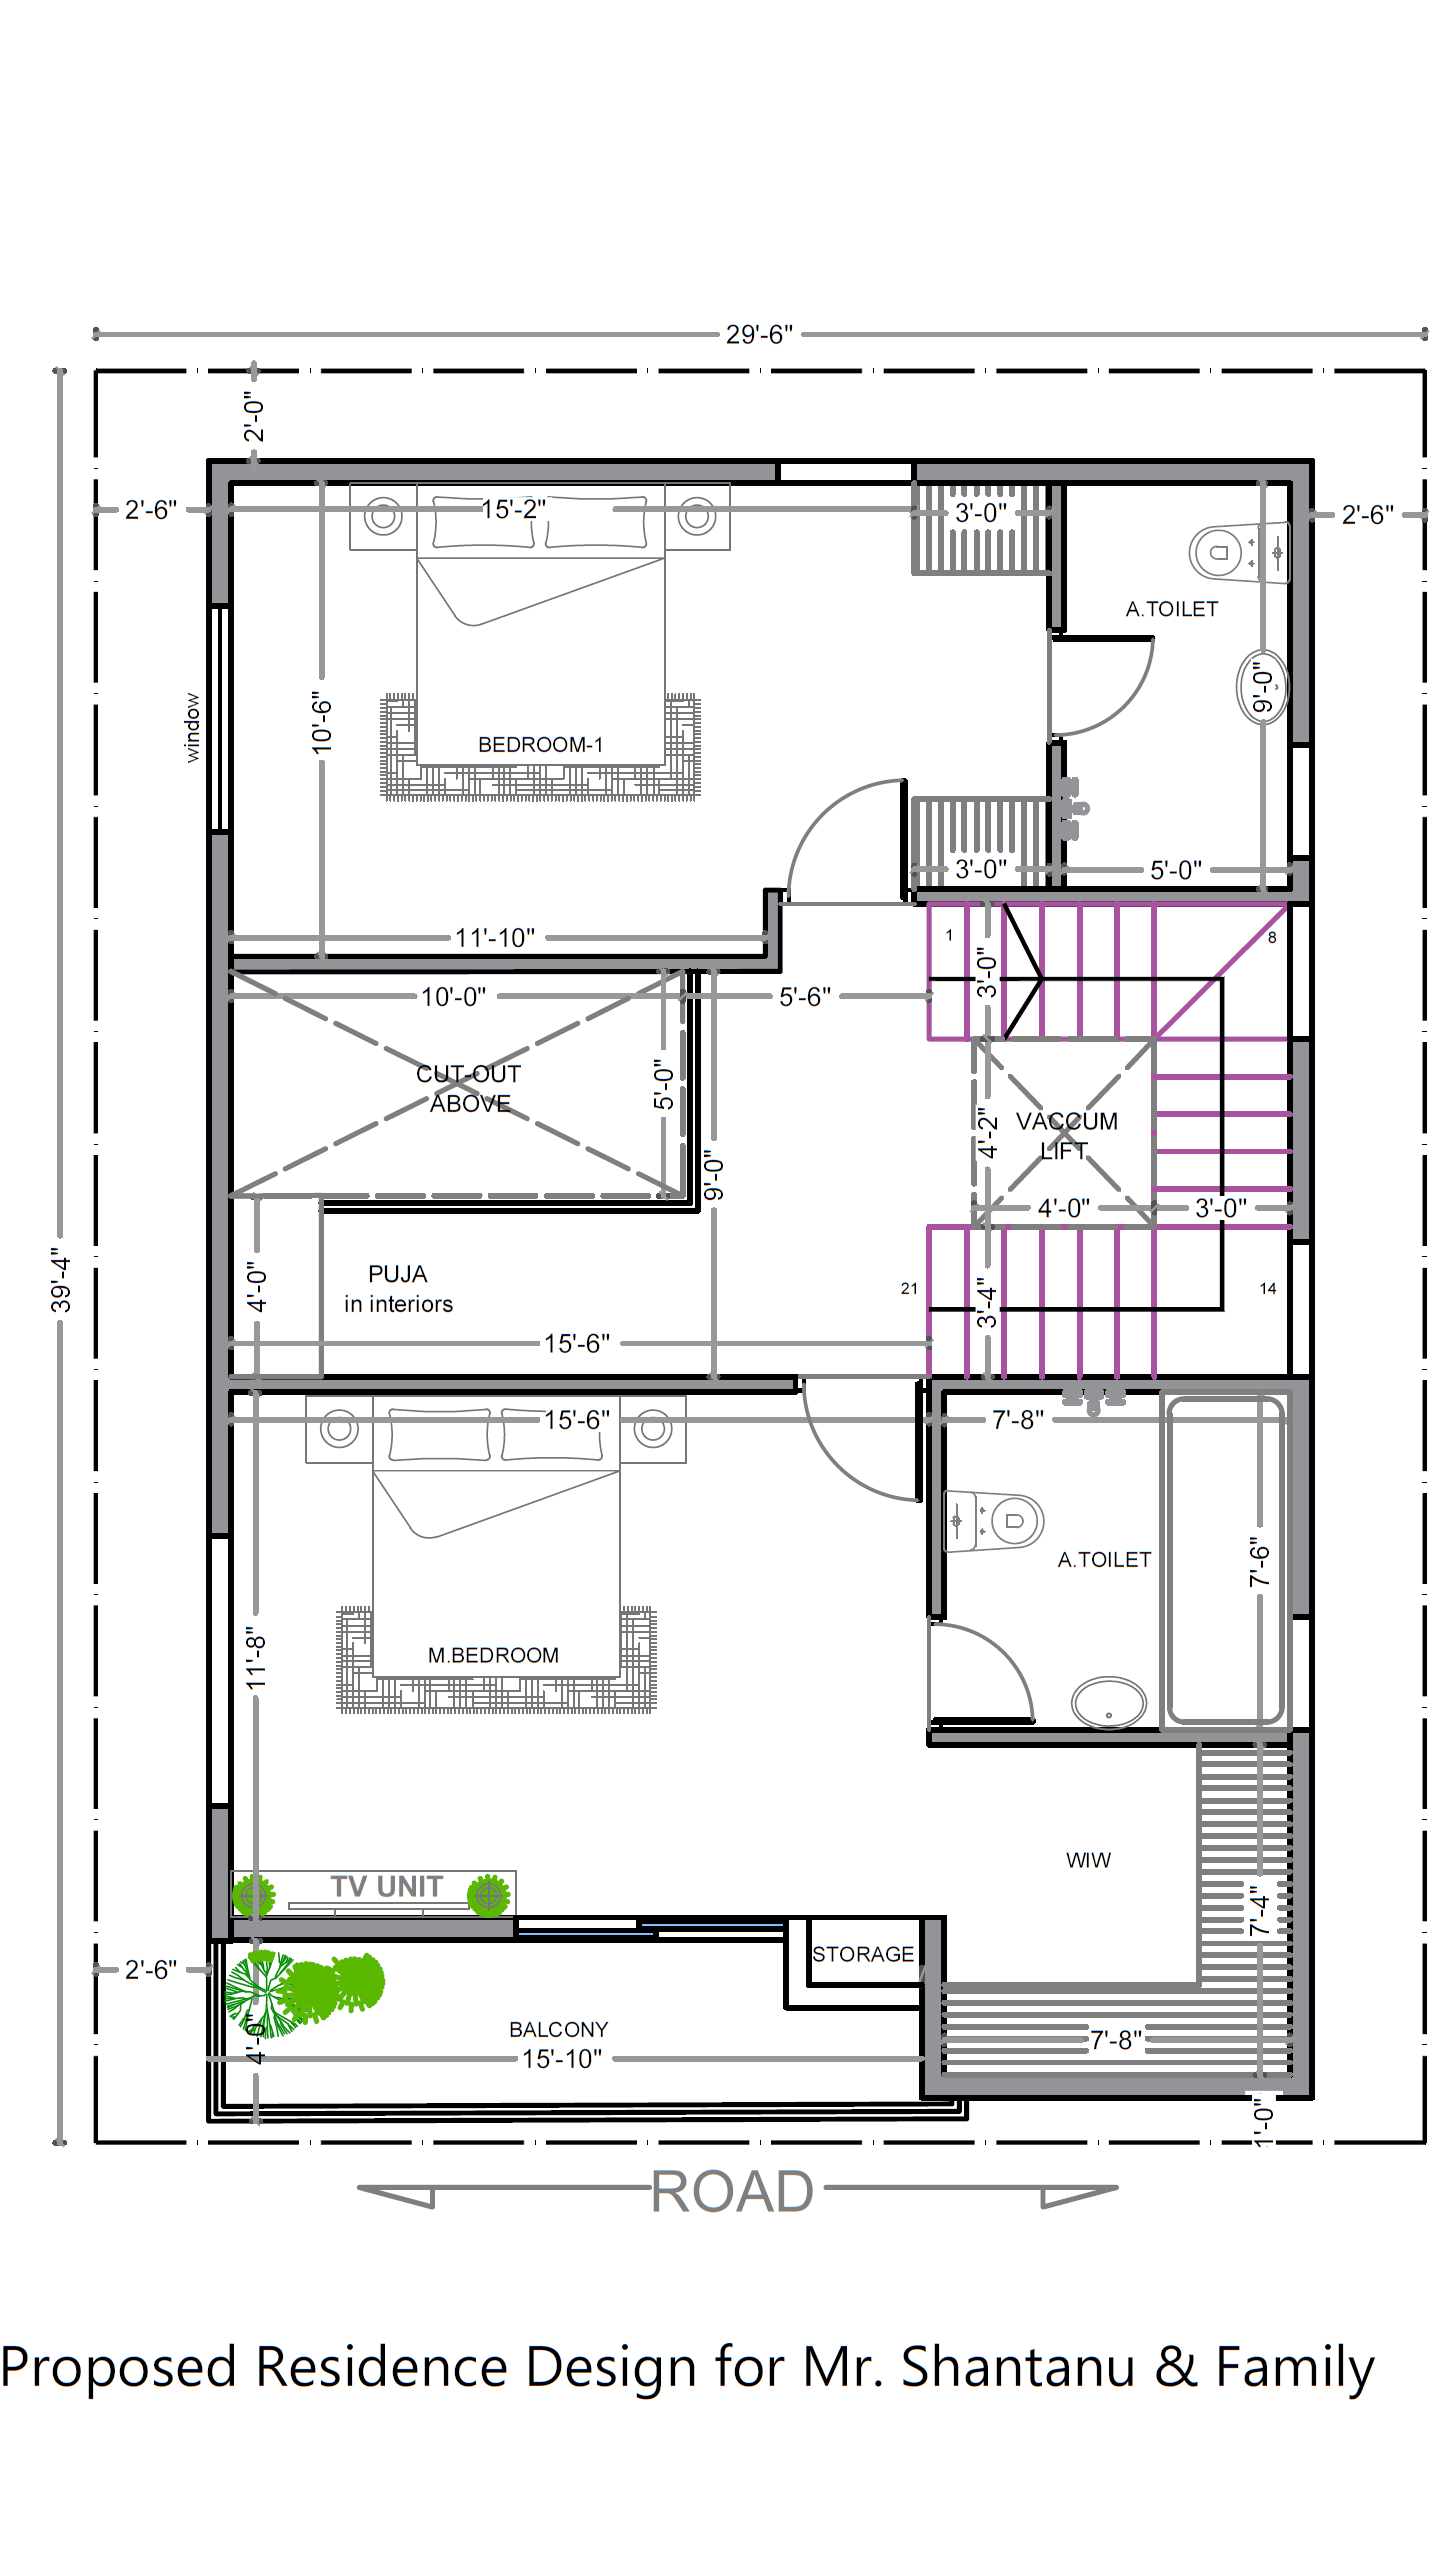door: (781, 774, 916, 904), (791, 1379, 923, 1510), (931, 1610, 1041, 1737), (1044, 626, 1164, 741)
